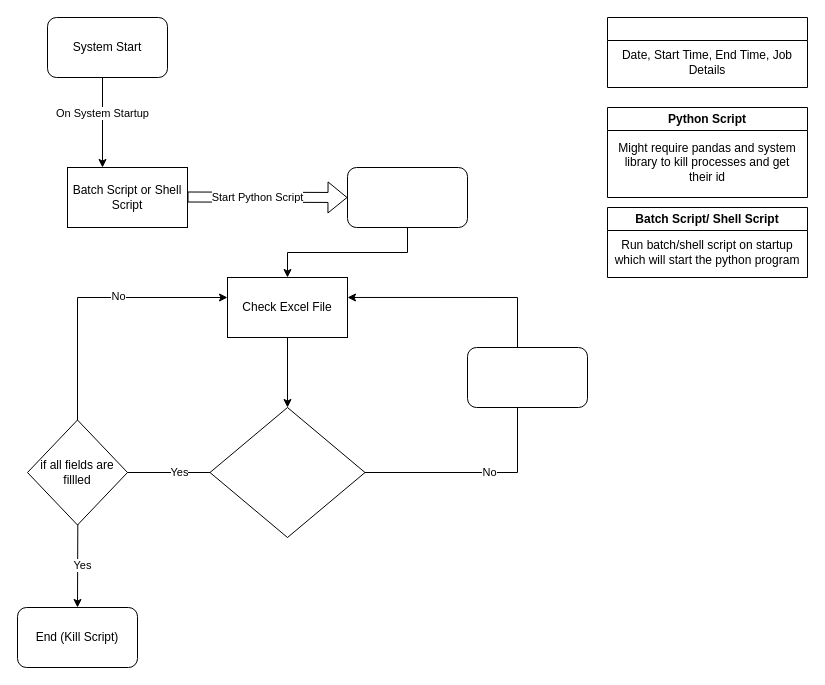
Some shapes in this 825 by 685 pixel diagram are drawn without their labels. The shapes that lost their labels are listed below. From the top down, each one's box as (x1, y1, x2, y2) in pixels, then its label:
(606, 16, 808, 88): Excel
(346, 166, 468, 228): Python Script Start
(466, 346, 588, 408): Block all access except the excel file
(209, 406, 365, 538): if last date is same as current date - 1
